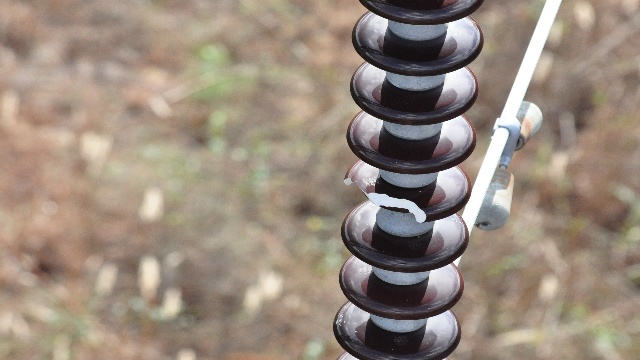broken_local: (344, 176, 432, 226)
insulator_unspecified: (333, 0, 489, 358)
